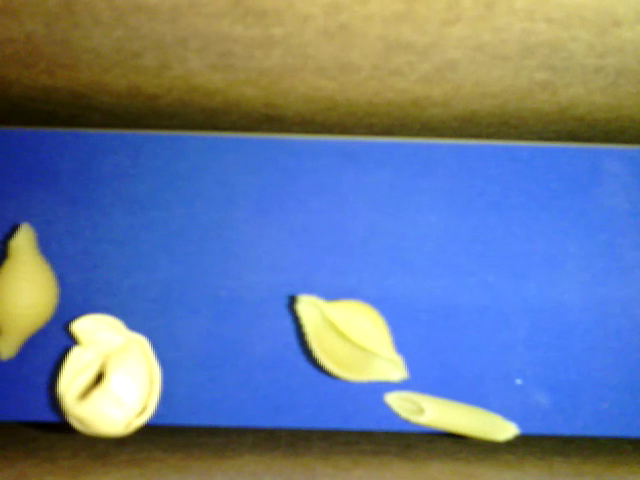penne: (382, 388, 521, 442)
shell: (294, 293, 410, 385), (1, 222, 61, 359)
tortellini: (55, 315, 163, 436)
